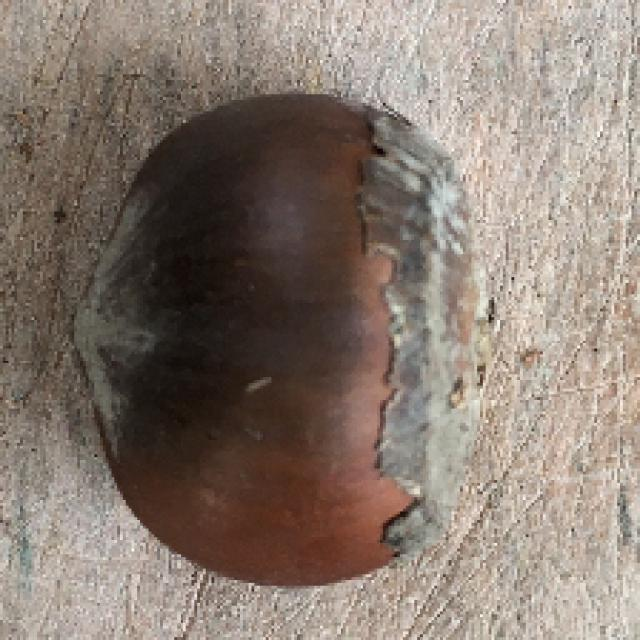damagedHazelnut: (59, 81, 500, 584)
